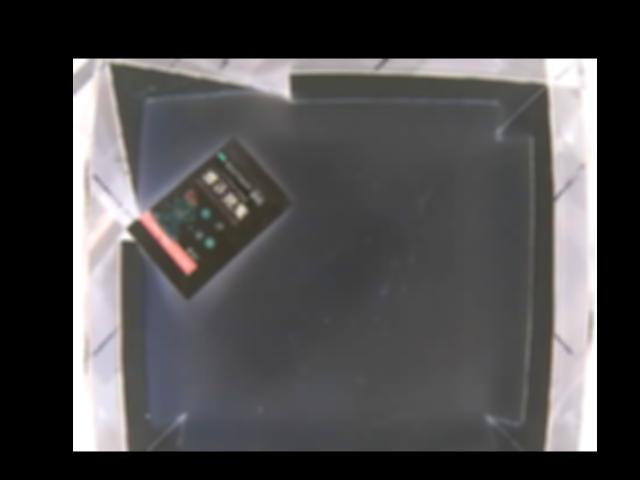Medicine: (124, 135, 294, 298)
